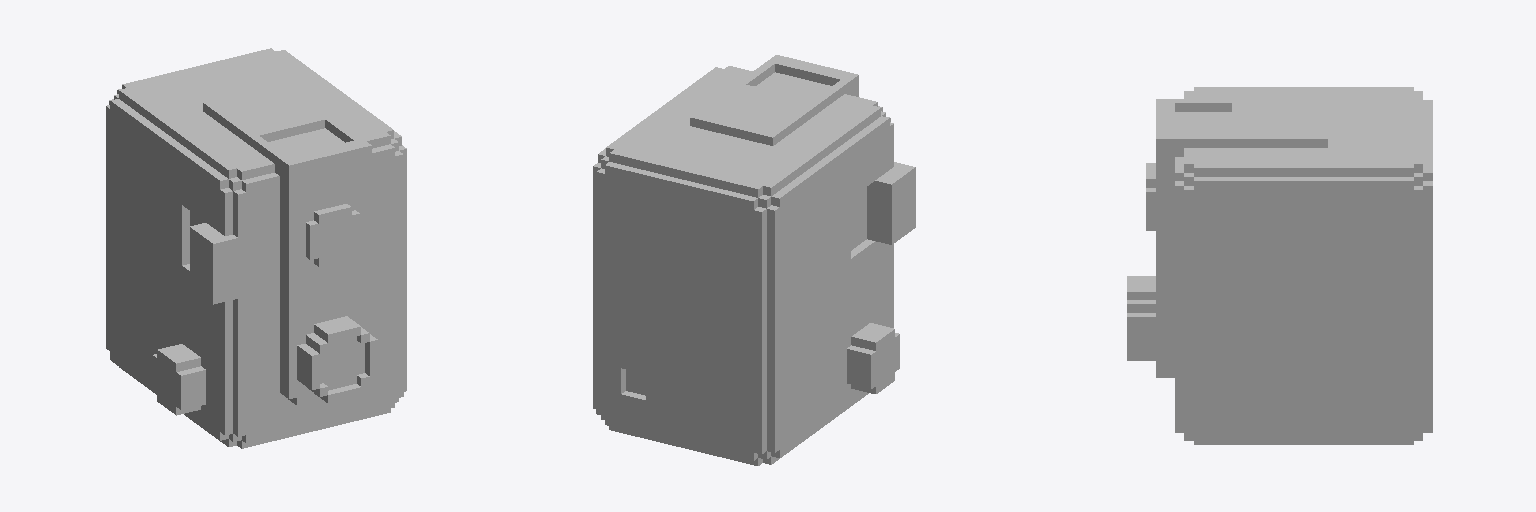
The model's file is camera.obj.
3 views of the same model, side by side, from view 1: azimuth 30°, elevation 25°; view 2: azimuth 150°, elevation 25°; view 3: azimuth 270°, elevation 25° (orthographic).
Visible parts, largest first — view 1: camera; view 2: camera; view 3: camera.
Part boxes in pixels (x1,y1,x2,y2): camera: (106, 48, 406, 448); camera: (593, 55, 915, 465); camera: (1127, 87, 1432, 444).
Size of the model in its own units: 25 by 33 by 32.